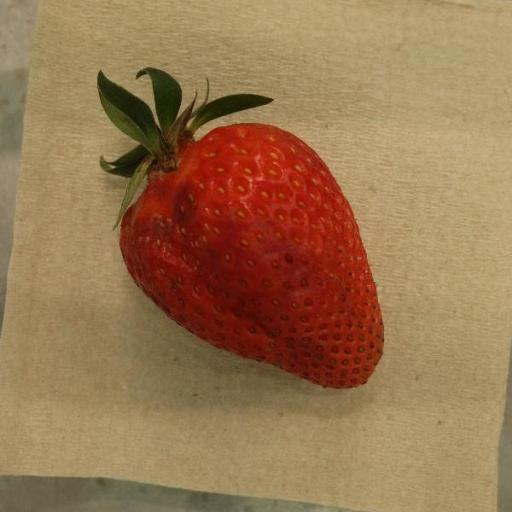Strawberry: (97, 68, 385, 391)
